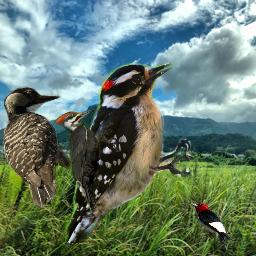Woodpecker: (65, 62, 194, 243), (3, 86, 75, 211), (54, 109, 114, 214), (188, 202, 233, 251)
